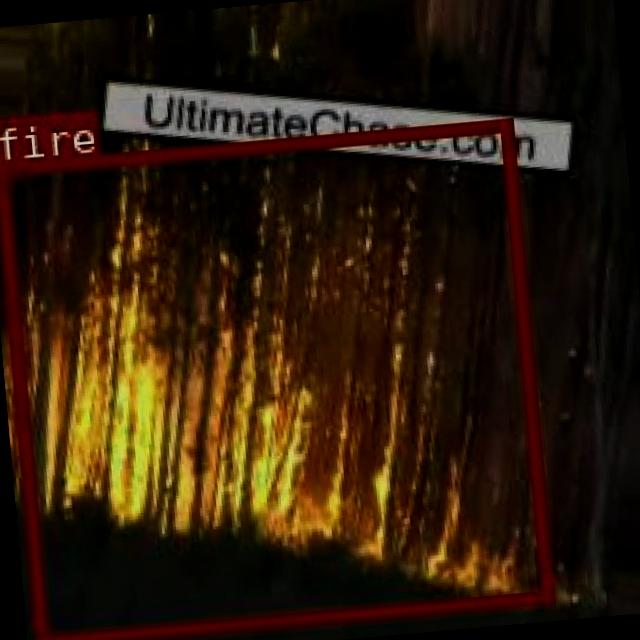fire: (0, 115, 552, 640)
